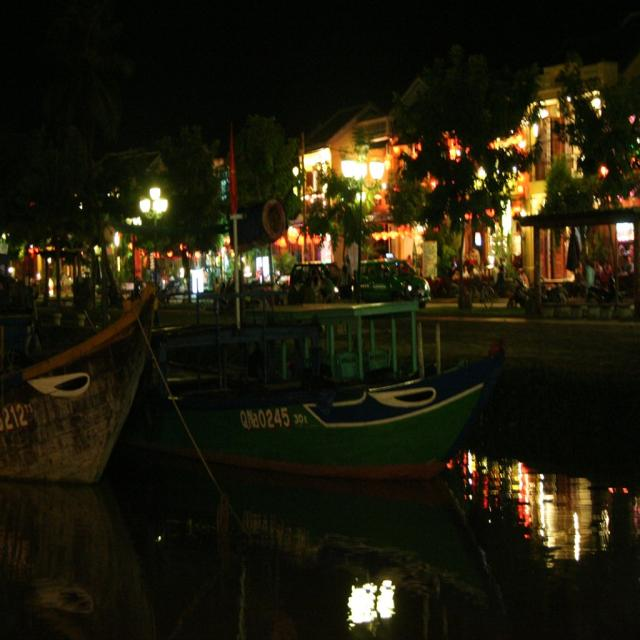Boat: (174, 277, 529, 491), (0, 273, 190, 524)
